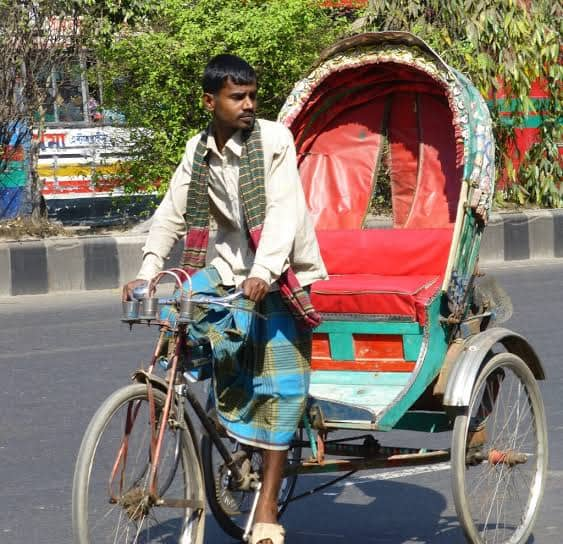Rickshaw: (59, 33, 546, 543)
